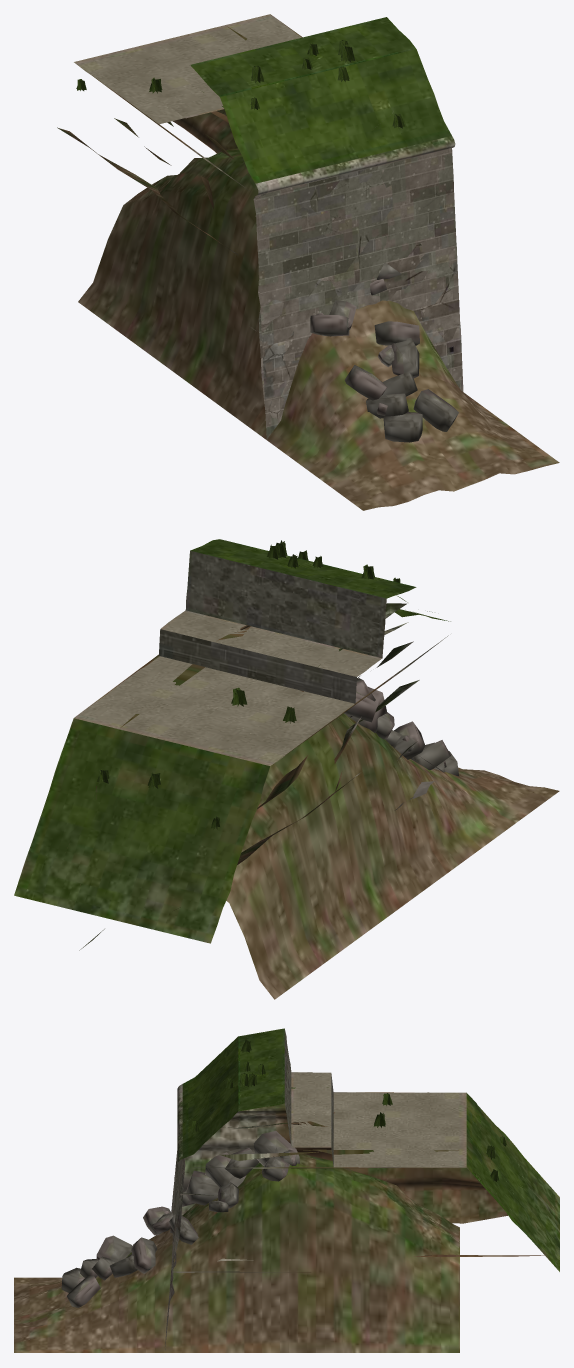
File: starfort_curtain_hero.glb
3 renders of one model, top to bottom at view 1: azimuth 30°, elevation 25°; view 2: azimuth 150°, elevation 25°; view 3: azimuth 270°, elevation 25°, orthographic. The views are drawn at different scales.
Visible parts, largest first — view 1: breached, intact, cracked; view 2: breached, intact, cracked; view 3: breached, intact, cracked, endcap_b.
Boxes of the visible parts, x1,y1,x2,y2 form: breached: (57, 18, 559, 510); intact: (74, 14, 456, 415); cracked: (74, 23, 460, 434); breached: (14, 539, 559, 999); intact: (36, 546, 415, 943); cracked: (14, 540, 448, 942); breached: (14, 1029, 559, 1352); intact: (165, 1029, 559, 1346); cracked: (167, 1028, 559, 1322); endcap_b: (173, 1104, 458, 1272).
Size of what is drawn, in the model's own units: 4.08 by 6.47 by 12.3.
Materials: 2 (2 with a texture image).
